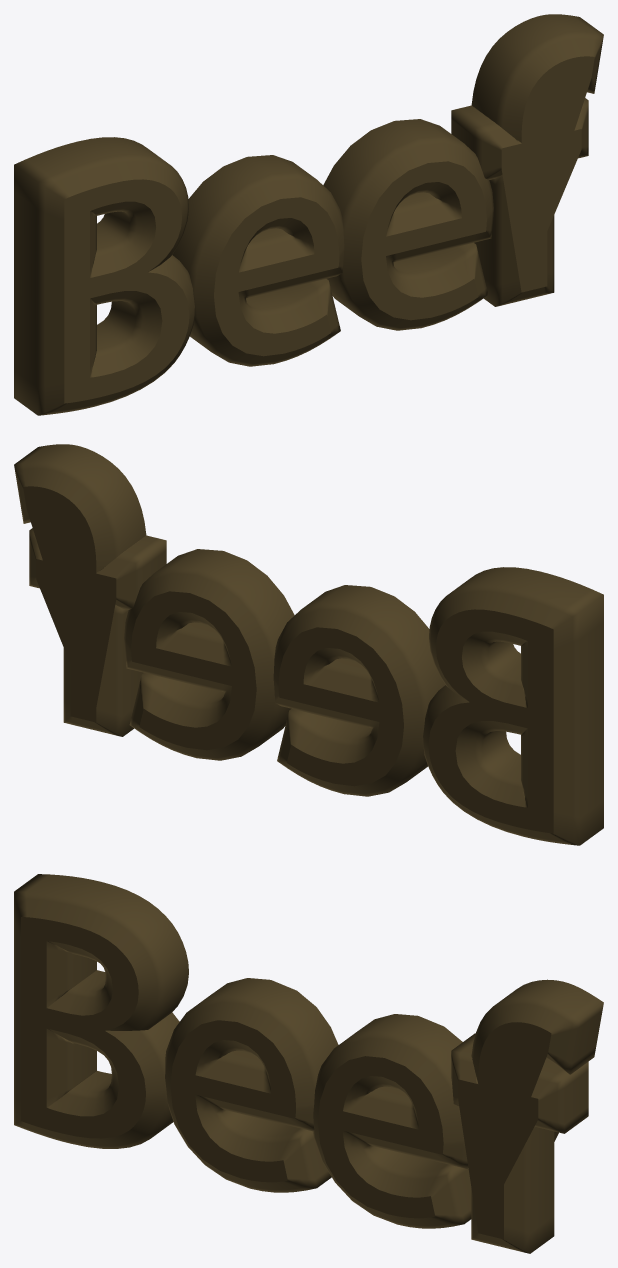
The model's file is beef.fbx.
3 renders of one model, top to bottom at view 1: azimuth 30°, elevation 25°; view 2: azimuth 150°, elevation 25°; view 3: azimuth 330°, elevation 25°, orthographic.
Parts seen in each view (by area): view 1: bevelPolygon2, bevelPolygon3, bevelPolygon4, bevelPolygon5; view 2: bevelPolygon2, bevelPolygon3, bevelPolygon4, bevelPolygon5; view 3: bevelPolygon2, bevelPolygon5, bevelPolygon3, bevelPolygon4.
Boxes of the visible parts, box(x1,y1,x2,y2) form: bevelPolygon2: box(14, 137, 194, 415); bevelPolygon3: box(172, 155, 344, 366); bevelPolygon4: box(323, 119, 493, 330); bevelPolygon5: box(451, 14, 603, 306); bevelPolygon2: box(423, 567, 603, 845); bevelPolygon3: box(273, 585, 445, 796); bevelPolygon4: box(124, 549, 294, 760); bevelPolygon5: box(14, 444, 166, 736); bevelPolygon2: box(14, 874, 188, 1148); bevelPolygon5: box(451, 979, 603, 1253); bevelPolygon3: box(165, 978, 338, 1192); bevelPolygon4: box(313, 1014, 471, 1228).
Size of the model in its own units: 3.39 by 1.49 by 0.45.
